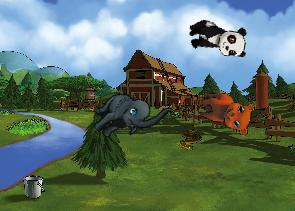bear: (194, 91, 255, 136)
elephant: (85, 71, 174, 159)
panda: (185, 18, 249, 59)
